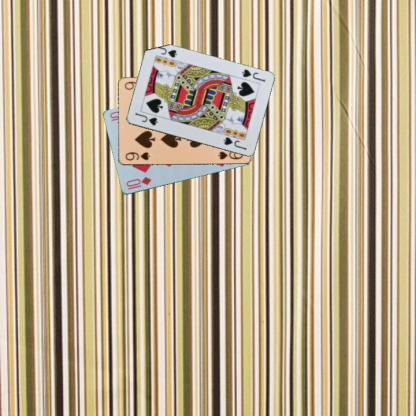10d: (124, 174, 152, 192)
9s: (122, 150, 151, 162)
Js: (239, 66, 266, 84), (132, 110, 159, 127)
